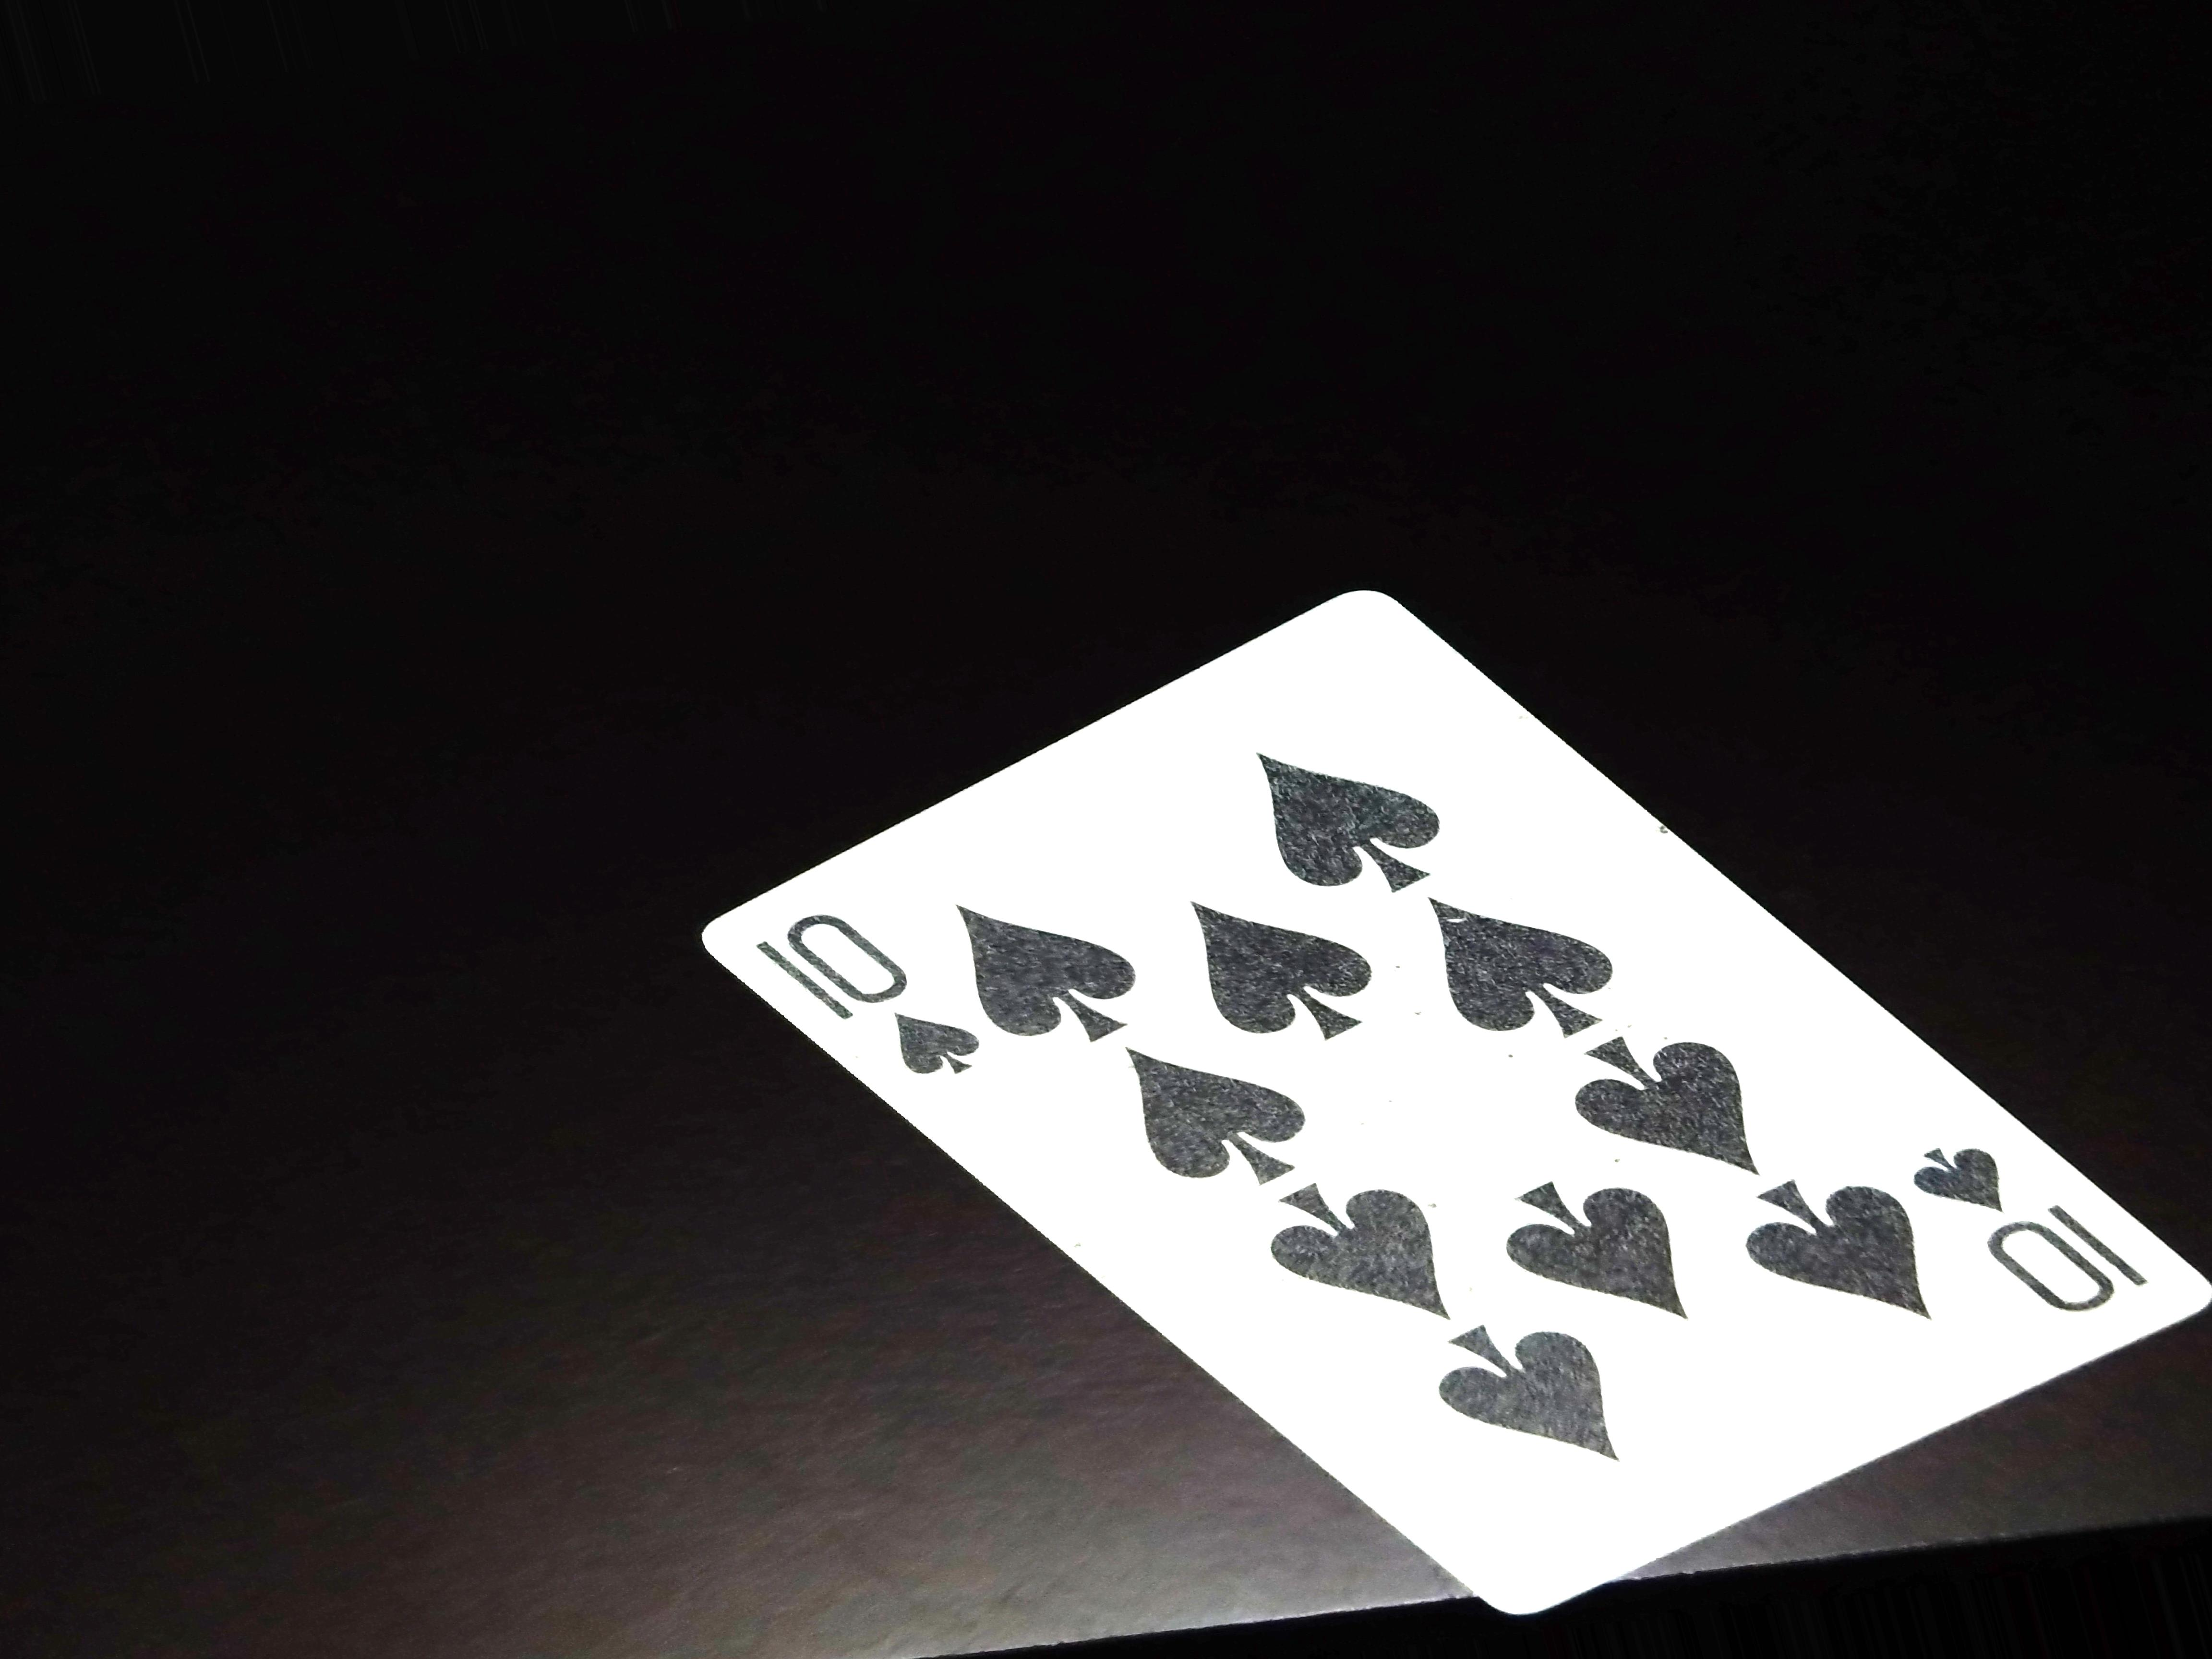10S: (1909, 1133, 2156, 1333)
